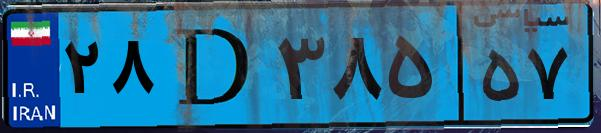2: (57, 26, 110, 100)
3: (270, 28, 330, 110)
5: (385, 28, 445, 110), (475, 38, 525, 113)
7: (525, 38, 570, 115)
8: (330, 28, 385, 110), (110, 28, 158, 98)
D: (158, 12, 270, 120)
